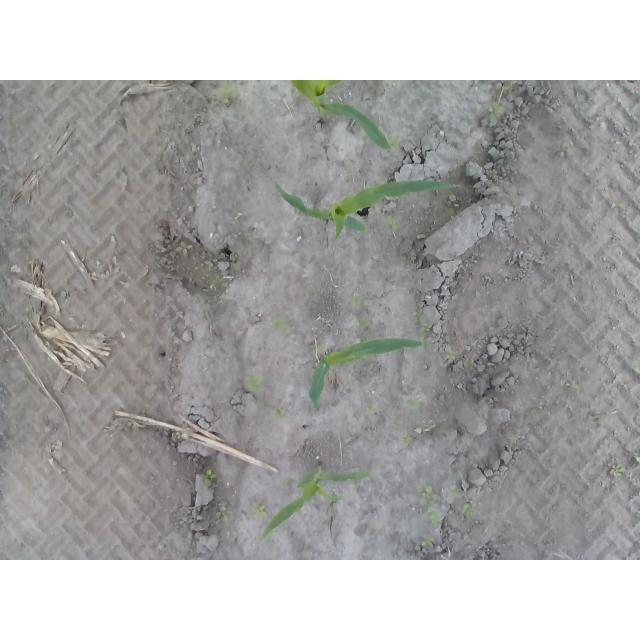Maize: (273, 181, 458, 238), (262, 462, 373, 547), (311, 334, 426, 412), (290, 80, 395, 152)
Weeds: (417, 484, 445, 528), (217, 80, 240, 97), (487, 102, 506, 122), (385, 215, 401, 234), (244, 375, 262, 391), (175, 239, 193, 254), (463, 504, 481, 519), (398, 398, 418, 411), (216, 505, 232, 520), (274, 315, 290, 330), (611, 195, 625, 210), (202, 469, 216, 484), (256, 503, 269, 518), (272, 408, 288, 420), (366, 404, 383, 415), (609, 464, 623, 477), (400, 433, 413, 447), (354, 319, 370, 330), (352, 297, 369, 307), (420, 537, 436, 547), (391, 134, 402, 147), (560, 143, 569, 158), (421, 324, 432, 336), (631, 359, 640, 373), (450, 487, 462, 497), (415, 311, 426, 321), (467, 360, 478, 369), (127, 422, 137, 431), (446, 352, 455, 360), (269, 530, 276, 537)
